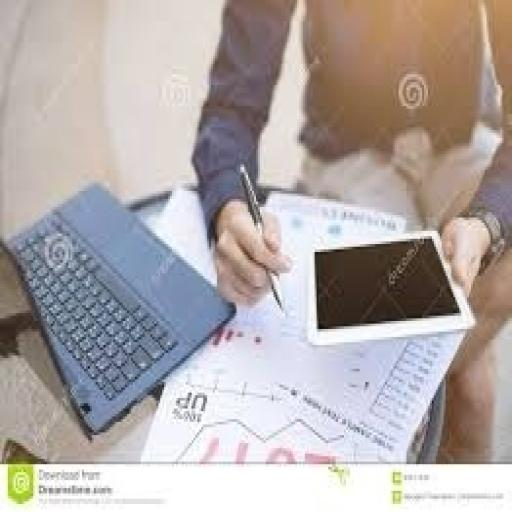using_laptop: (0, 177, 236, 437)
